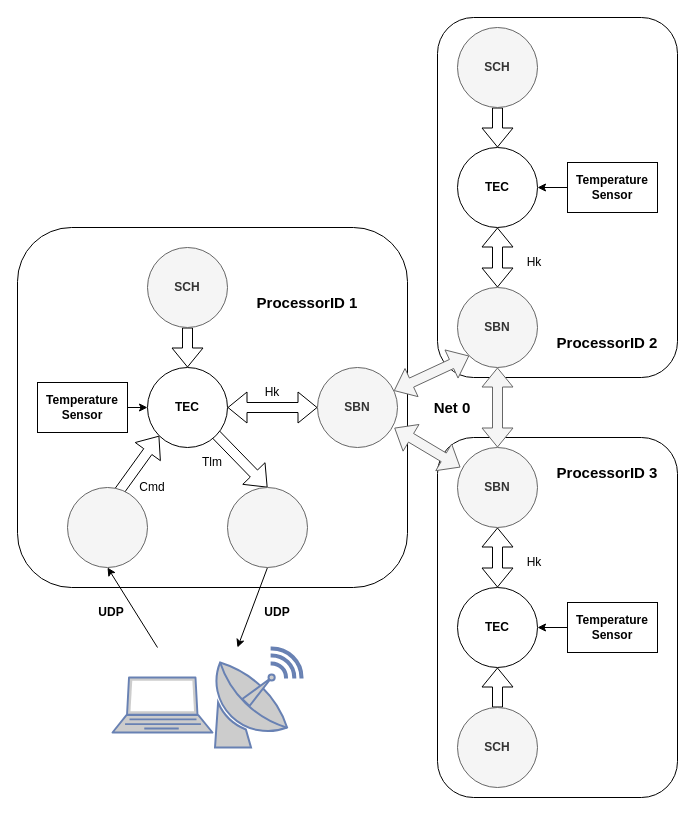
This 695x815 diagram has some shape labels left out. The centre of each missing label's shape, as x and y in pixels:
CI_LAB: the point at 107,527
TO_LAB: the point at 267,527
